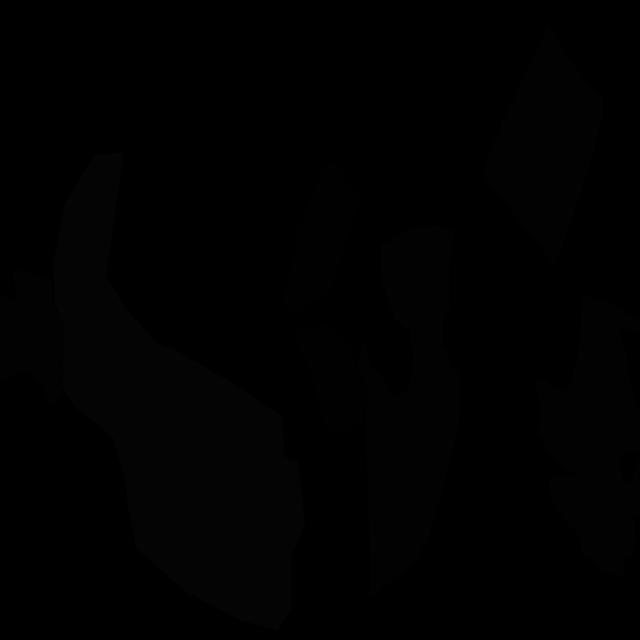cardboard: (358, 298, 460, 598), (482, 24, 604, 265), (534, 295, 640, 474), (549, 445, 640, 579), (0, 268, 64, 406), (380, 224, 454, 329)
rigid_plastic: (281, 163, 360, 319), (292, 323, 366, 435)
soft_plastic: (54, 152, 305, 631)
